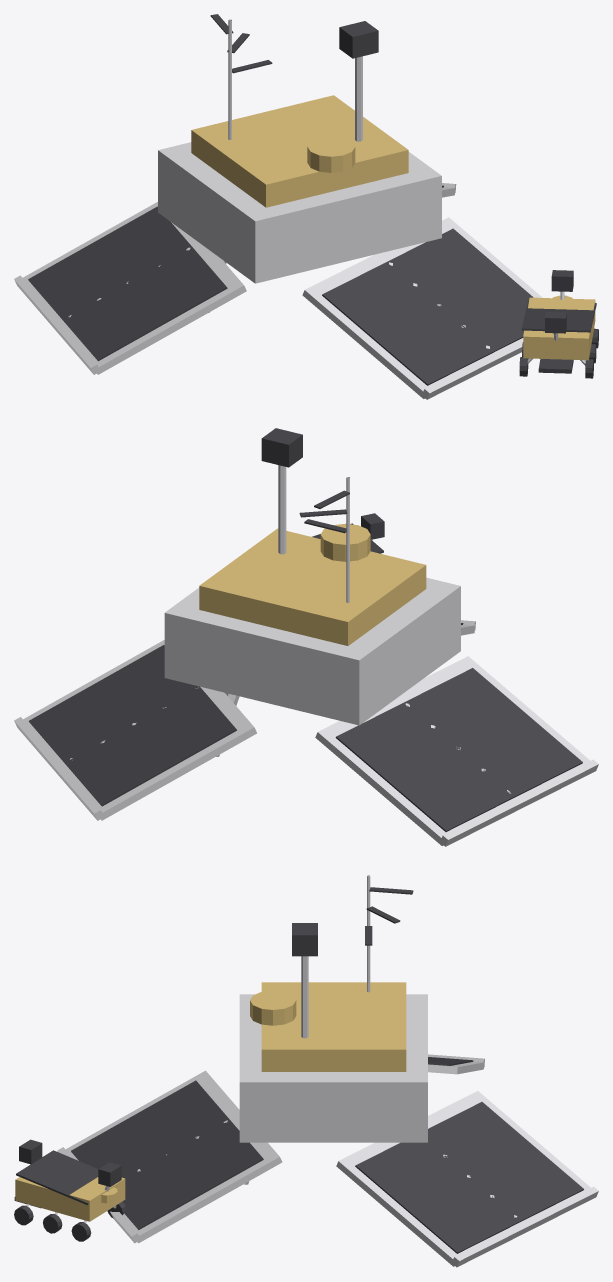
The model's file is pathfinder-sojourner.gltf.
The picture shows the model from 3 angles, top to bottom: view 1: azimuth 30°, elevation 25°; view 2: azimuth 150°, elevation 25°; view 3: azimuth 270°, elevation 25°; orthographic projection. The views are drawn at different scales.
Parts seen in each view (by area): view 1: dark, pathfinder-sojourner, gold; view 2: dark, pathfinder-sojourner, gold; view 3: dark, pathfinder-sojourner, gold.
Boxes of the visible parts, <box> form: dark: <box>28,14,598,385</box>; pathfinder-sojourner: <box>14,19,585,399</box>; gold: <box>191,95,595,360</box>; dark: <box>29,428,582,831</box>; pathfinder-sojourner: <box>14,465,598,846</box>; gold: <box>199,523,426,645</box>; dark: <box>14,887,583,1253</box>; pathfinder-sojourner: <box>26,875,598,1267</box>; gold: <box>15,982,406,1221</box>.
Bounding box in the file's own units: 3.57 × 2.01 × 4.04.
